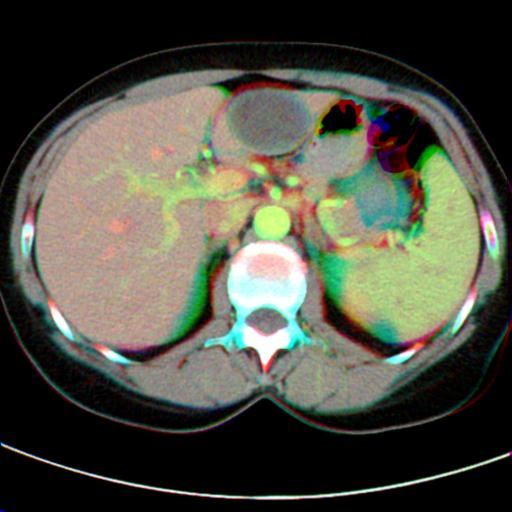Cyst: (222, 87, 311, 156)
